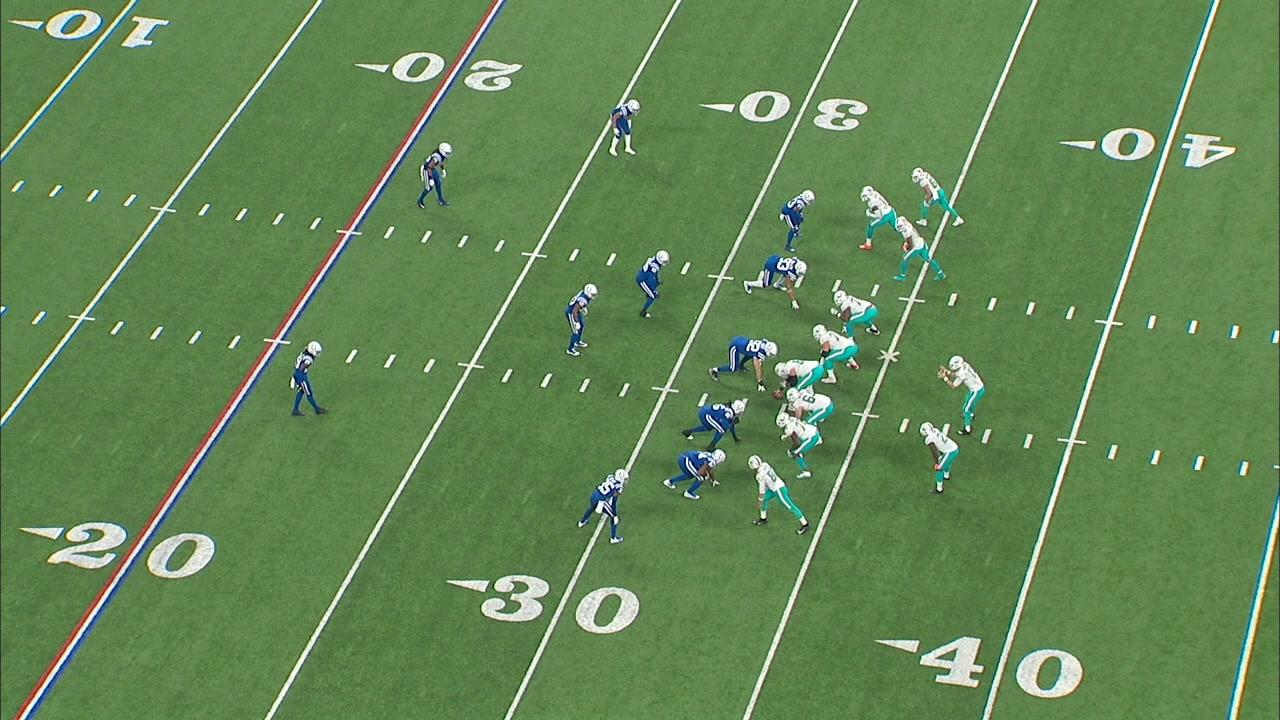player: (746, 454, 811, 540), (931, 351, 989, 439), (574, 467, 631, 552), (706, 337, 780, 394), (741, 252, 810, 311), (892, 216, 951, 284), (660, 447, 729, 504), (857, 182, 910, 254), (681, 398, 748, 454), (287, 338, 331, 421), (910, 166, 967, 230), (776, 411, 824, 483), (810, 321, 862, 386), (918, 421, 960, 498), (634, 247, 676, 320), (561, 280, 600, 358), (777, 187, 818, 255), (829, 289, 882, 341), (604, 94, 645, 161), (416, 142, 455, 212), (784, 387, 835, 431), (774, 358, 824, 399)
